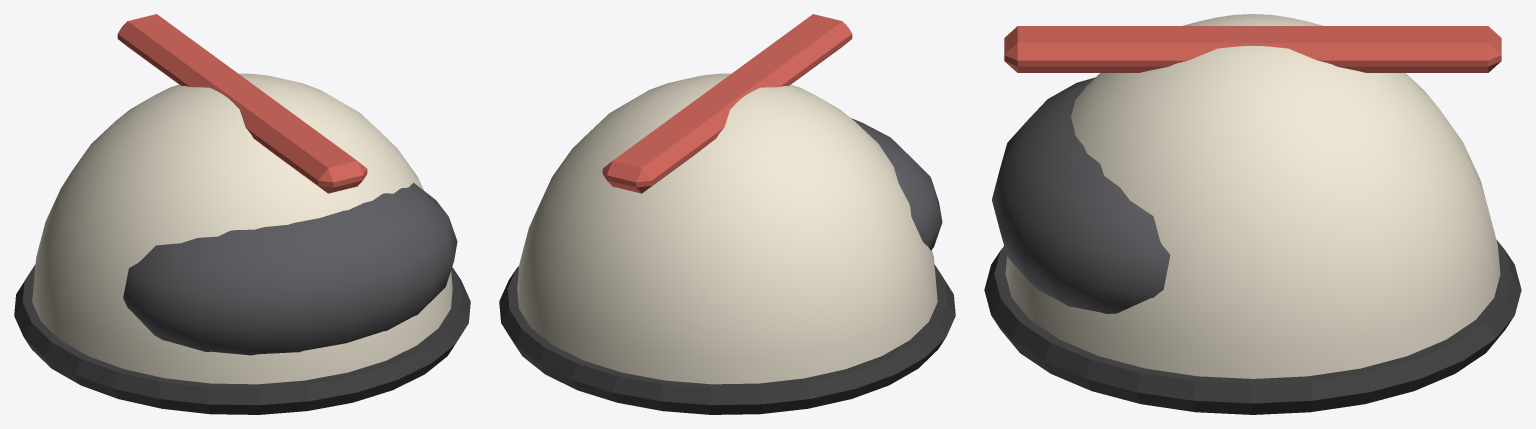
File: Garage_Helmet.glb
3 views of the same model, side by side, from view 1: azimuth 30°, elevation 25°; view 2: azimuth 150°, elevation 25°; view 3: azimuth 270°, elevation 25° (orthographic). The views are drawn at different scales.
Visible parts, largest first — view 1: Garage_Helmet; view 2: Garage_Helmet; view 3: Garage_Helmet.
Part boxes in pixels (<box>): Garage_Helmet: <box>14,14,470,414</box>; Garage_Helmet: <box>499,14,955,414</box>; Garage_Helmet: <box>984,14,1521,414</box>.
Bounding box in the file's own units: 0.324 × 0.1804 × 0.324.
